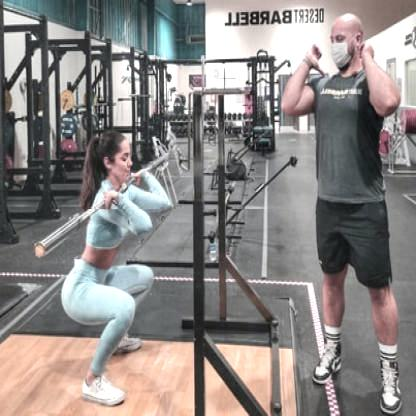Barbell: (27, 228, 48, 269)
